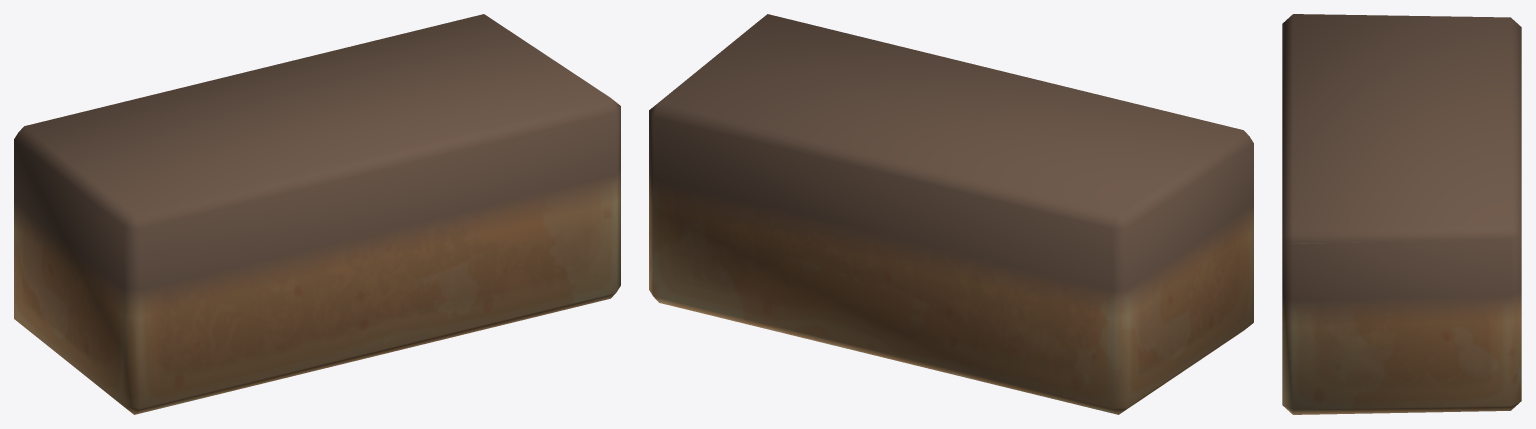
File: SM_brick_08.glb
3 views of the same model, side by side, from view 1: azimuth 30°, elevation 25°; view 2: azimuth 150°, elevation 25°; view 3: azimuth 270°, elevation 25° (orthographic). The views are drawn at different scales.
Parts seen in each view (by area): view 1: SM_brick_08; view 2: SM_brick_08; view 3: SM_brick_08.
Part boxes in pixels (<box>): SM_brick_08: <box>14,14,620,414</box>; SM_brick_08: <box>649,14,1253,414</box>; SM_brick_08: <box>1282,14,1521,414</box>.
Bounding box in the file's own units: 0.5179 × 0.2 × 0.2335.
Materials: 1 (1 with a texture image).
